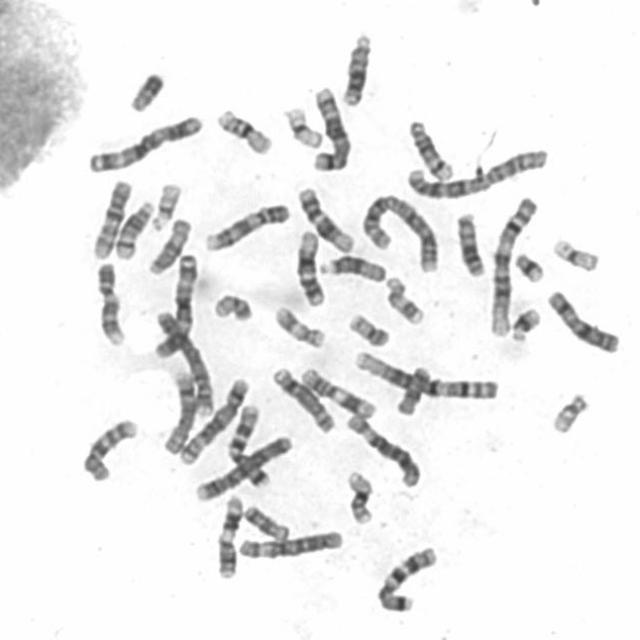A1: (353, 350, 501, 401), (489, 195, 538, 338)
A2: (407, 147, 549, 199), (360, 194, 442, 275)
A3: (85, 113, 205, 175), (152, 253, 199, 361)
B4: (195, 434, 293, 504), (154, 310, 215, 416)
B5: (178, 376, 249, 466), (311, 86, 354, 171)
C10: (79, 417, 138, 483), (92, 179, 134, 260)
C11: (300, 367, 376, 421), (215, 492, 245, 582)
C12: (296, 186, 355, 255), (295, 228, 328, 306)
C6: (346, 414, 422, 488), (237, 530, 343, 562)
C7: (376, 544, 441, 614), (227, 402, 273, 492)
C8: (272, 365, 336, 434), (161, 371, 198, 455)
C9: (204, 200, 292, 251), (94, 261, 130, 345)
D13: (341, 32, 374, 108), (453, 211, 487, 276)
D14: (405, 119, 455, 183), (113, 198, 158, 261)
D15: (147, 218, 192, 277), (318, 253, 388, 284)
E16: (216, 108, 274, 156), (342, 469, 377, 527)
E17: (271, 302, 329, 349), (382, 275, 425, 326)
E18: (243, 504, 291, 543), (395, 366, 432, 416)
F19: (280, 105, 324, 151), (550, 237, 602, 274)
F20: (343, 311, 391, 349), (211, 291, 254, 324)
G21: (509, 304, 544, 344), (513, 252, 545, 283)
G22: (550, 391, 595, 437), (149, 182, 183, 233)
X: (546, 290, 620, 355)
Y: (127, 71, 164, 114)
